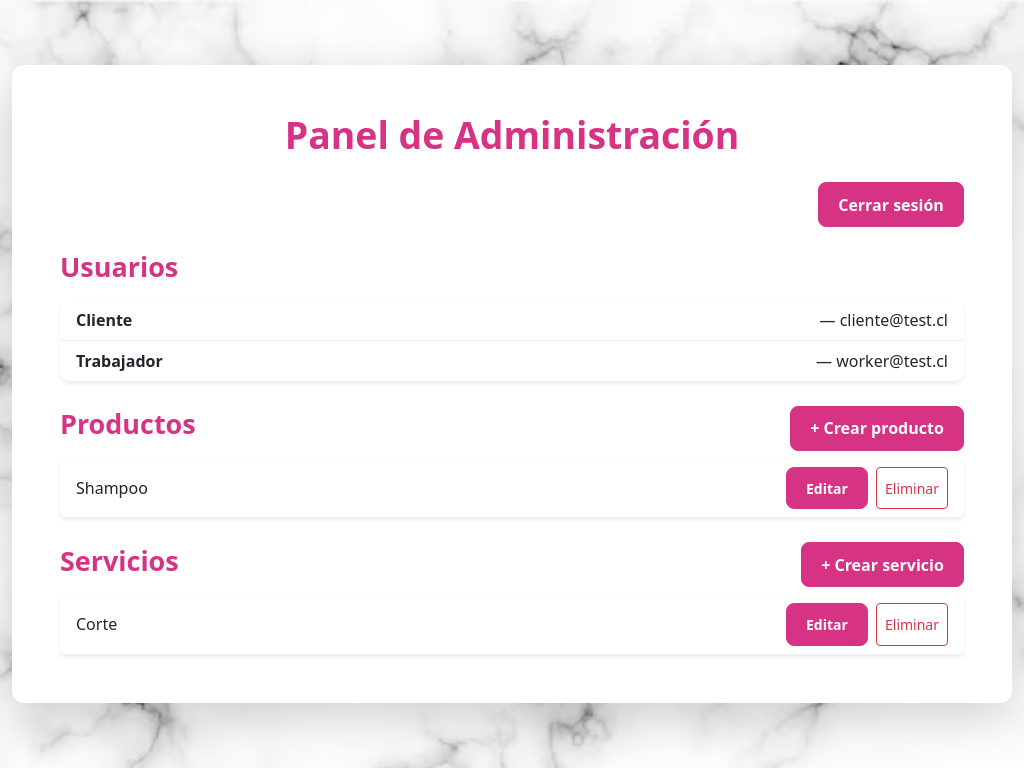
Test: Admin › abre el modal para crear producto
Step 1. Click the button "+ Crear producto" → (877, 428), box [790,406,964,451]
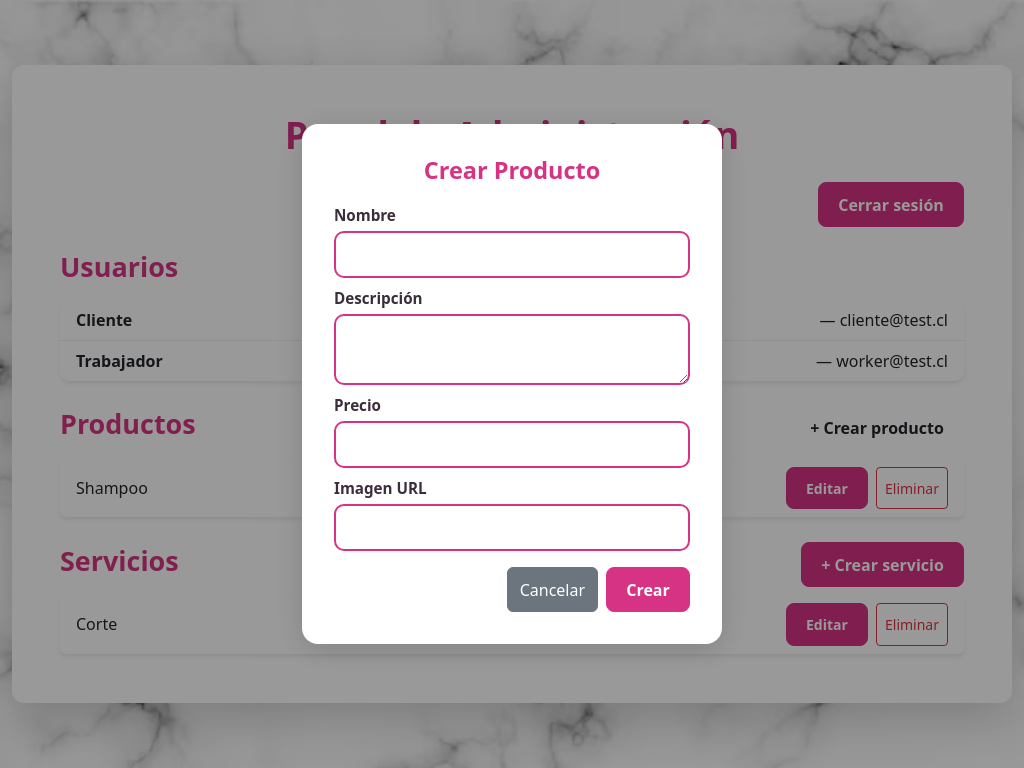
Expected: the heading "Crear Producto" is shown, [424,154,600,186]
